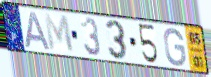3: (105, 19, 129, 62), (79, 17, 102, 58)
5: (137, 23, 159, 65)
A: (24, 10, 52, 52)
G: (163, 27, 188, 68)
M: (42, 12, 75, 55)
